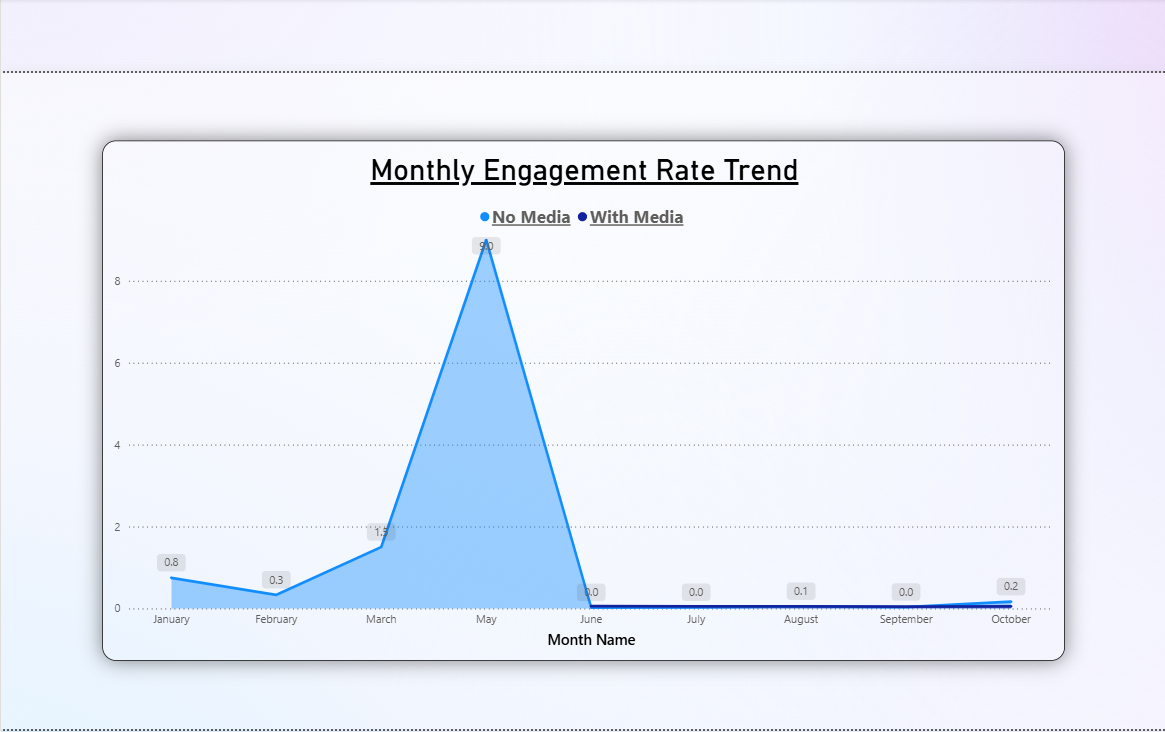

Layout of this report page (visuals, bound fields, positions):
{"tool":"powerbi","page":{"name":"Task 5","canvas":[1280,720],"ordinal":2},"visuals":[{"type":"lineChart","title":"Monthly Engagement Rate Trend","fields":{"Series":["SocialMedia (3).Has Media"],"Category":["SocialMedia (3).Month Name"],"Y":["Avg(SocialMedia (3).engagement rate)"]},"box":[111.1,73.6,1056.9,570.8],"z":0}]}

Visuals, with their boxes on the page's 1280x720 design canvas (x1, y1, x2, y2). These are canvas units, not pixel positions in the 1165x732 screenshot, which may show the page scaled, cropped or inside an application window:
"Monthly Engagement Rate Trend" lineChart: (111, 74, 1168, 644)
